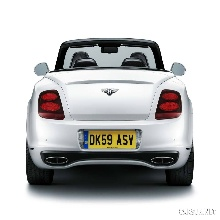no damage: (24, 38, 194, 187)
